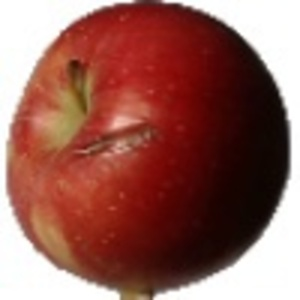maçã braeburn: (1, 1, 288, 294)
